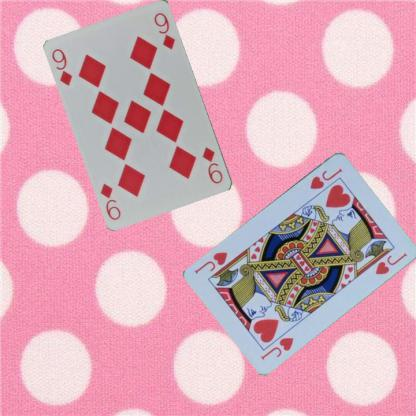9d: (49, 46, 74, 87), (200, 144, 224, 186)
Jh: (258, 334, 294, 361), (307, 164, 344, 190)
